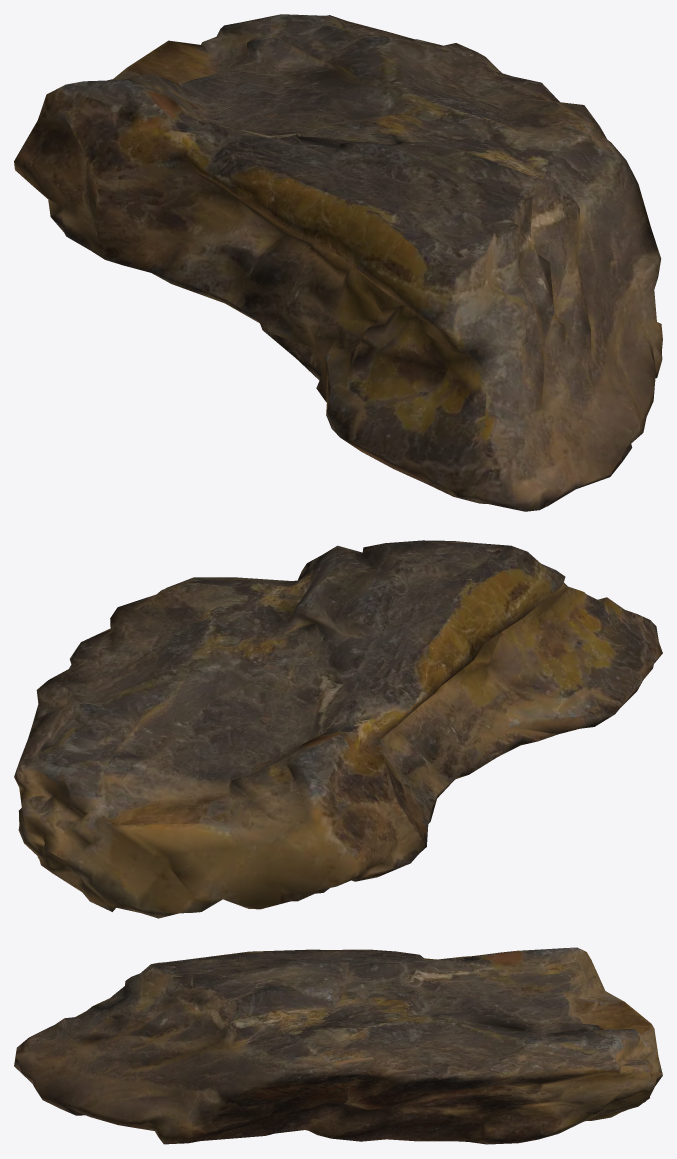
The model's file is rock_09.glb.
3 views of the same model, one above another, from view 1: azimuth 30°, elevation 25°; view 2: azimuth 150°, elevation 25°; view 3: azimuth 270°, elevation 25° (orthographic). The views are drawn at different scales.
Visible parts, largest first — view 1: rock_09_LOD0; view 2: rock_09_LOD0; view 3: rock_09_LOD0.
Part boxes in pixels (x1=…): rock_09_LOD0: x1=14, y1=14, x2=662, y2=511; rock_09_LOD0: x1=14, y1=540, x2=662, y2=918; rock_09_LOD0: x1=14, y1=947, x2=662, y2=1144.
Size of the model in its own units: 0.0739 by 0.0326 by 0.1446.
Materials: 1 (1 with a texture image).
